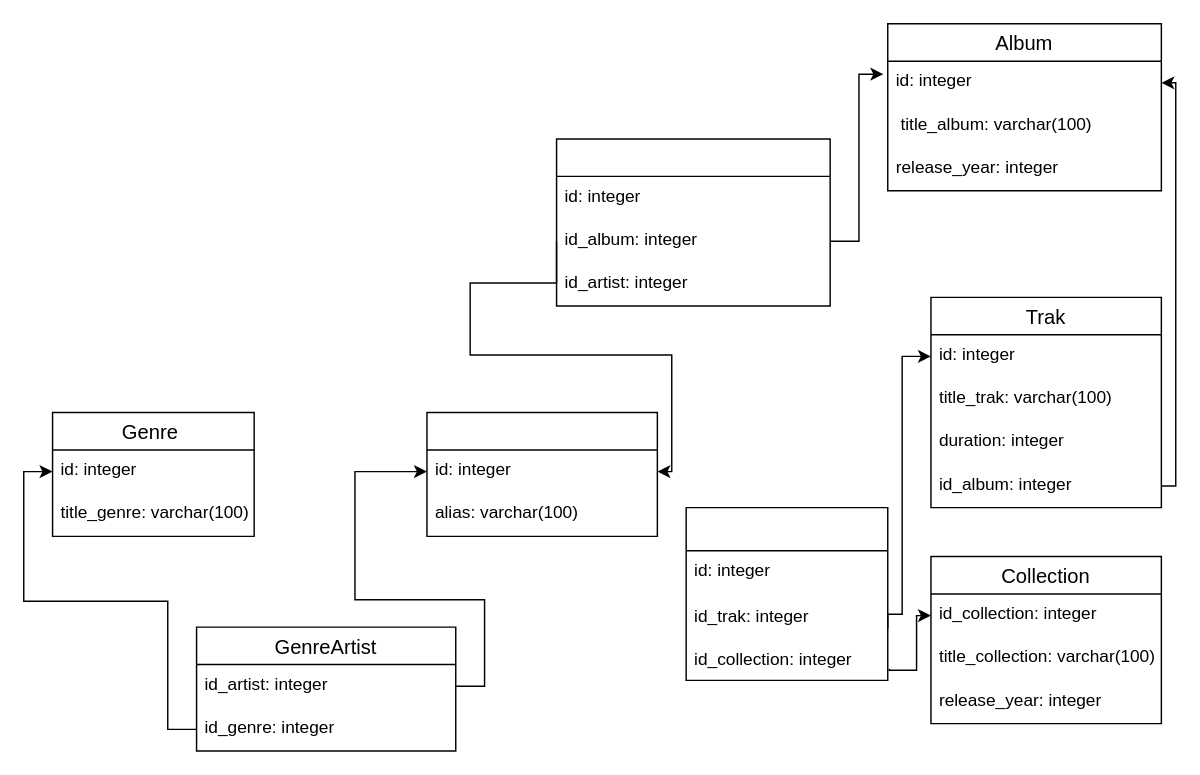
This 1200x775 diagram has some shape labels left out. Here are the shapes that lost their labels. From the top down, the box of each, then its label:
(555, 138, 830, 306): ArtistAlbum
(426, 411, 657, 536): Artist
(685, 506, 888, 680): TrakCollection
